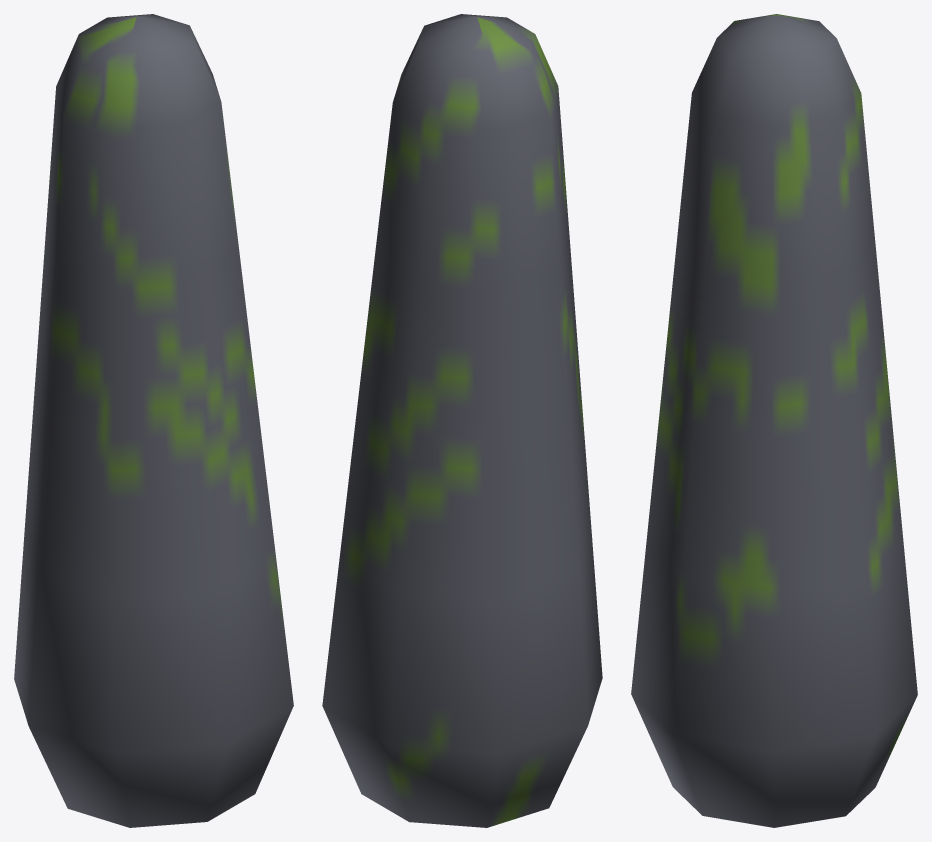
File: prop_menhir5_1be9.glb
The picture shows the model from 3 angles, left to right: view 1: azimuth 30°, elevation 25°; view 2: azimuth 150°, elevation 25°; view 3: azimuth 270°, elevation 25°; orthographic projection.
Visible parts, largest first — view 1: prop_menhir5_1be9; view 2: prop_menhir5_1be9; view 3: prop_menhir5_1be9.
Part boxes in pixels (<box>): prop_menhir5_1be9: <box>14,14,293,827</box>; prop_menhir5_1be9: <box>322,14,602,827</box>; prop_menhir5_1be9: <box>631,14,917,827</box>.
Size of the model in its own units: 0.3889 by 1.2 by 0.389.
Materials: 1 (1 with a texture image).
